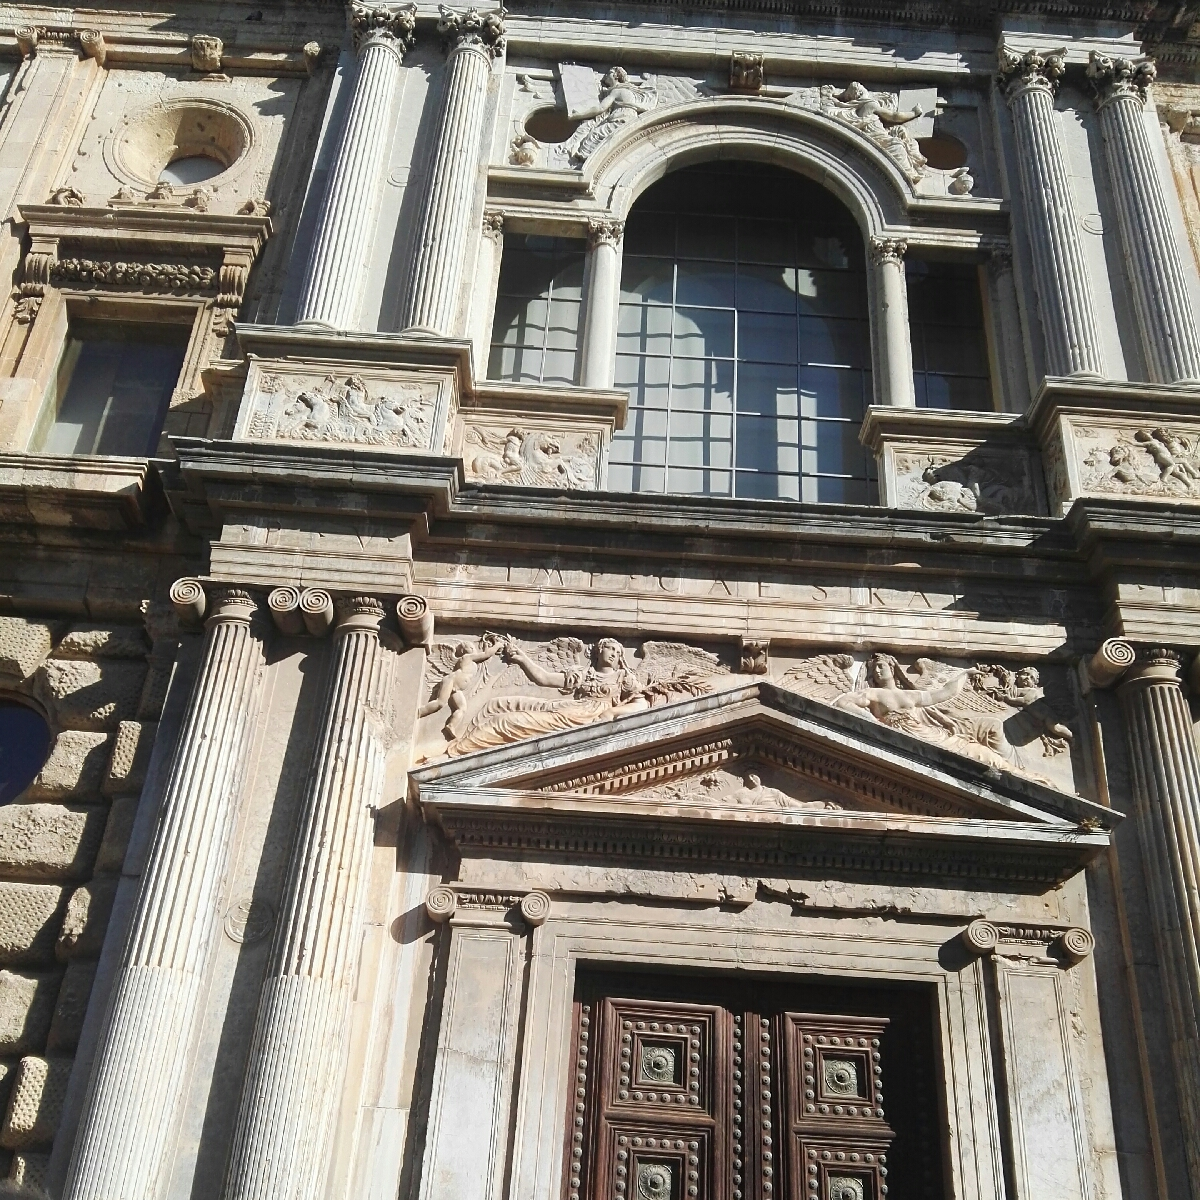arco-medio-punto: (601, 116, 884, 270)
fronton: (385, 678, 1129, 855)
ojo-de-buey: (113, 97, 254, 187)
serliana: (454, 86, 1071, 432)
vano-adintelado: (507, 910, 995, 1200), (10, 284, 214, 470)
